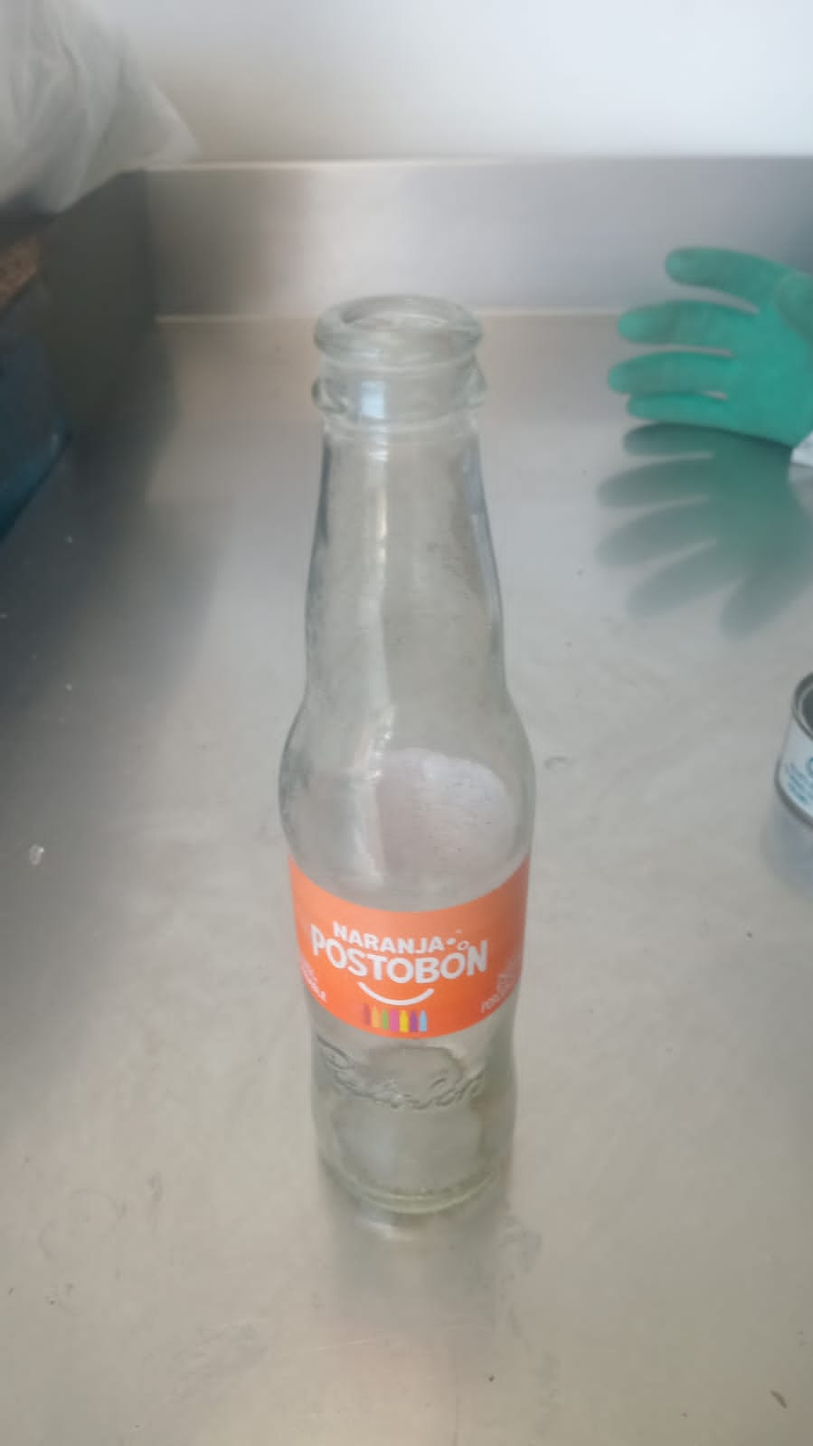Vidrio: (278, 298, 536, 1218)
